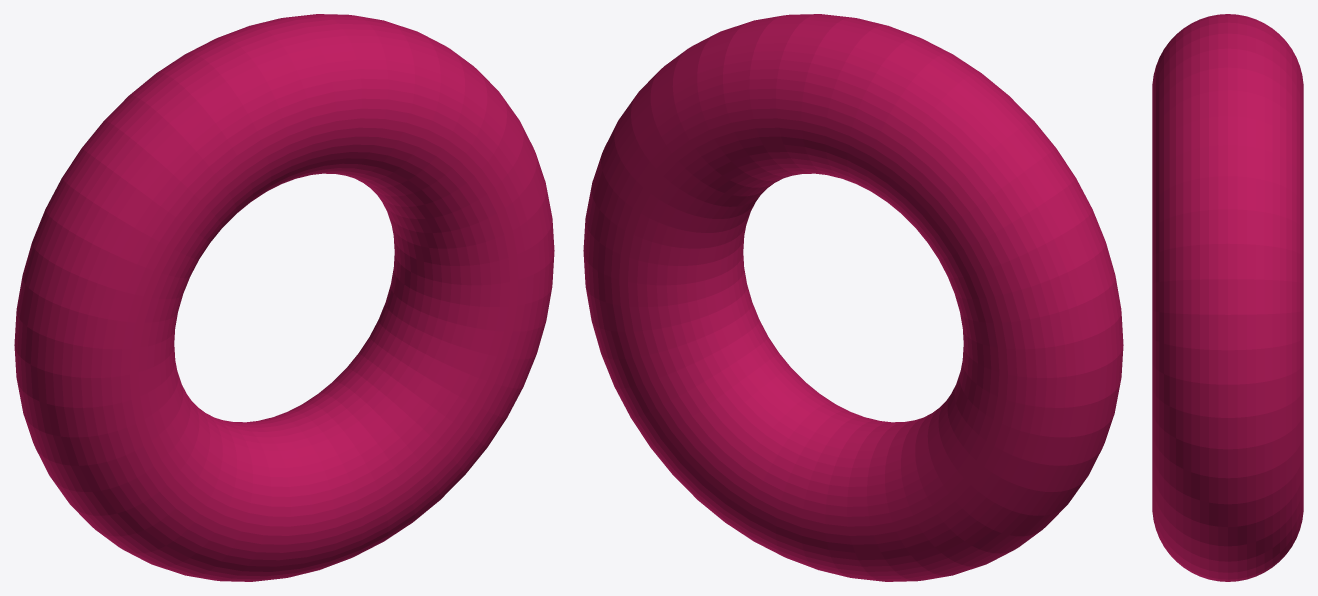
3 views of the same model, side by side, from view 1: azimuth 30°, elevation 25°; view 2: azimuth 150°, elevation 25°; view 3: azimuth 270°, elevation 25° (orthographic). The views are drawn at different scales.
Visible parts, largest first — view 1: world; view 2: world; view 3: world.
Boxes of the visible parts, bbox=[...] form: world: bbox=[14, 14, 554, 581]; world: bbox=[583, 14, 1123, 581]; world: bbox=[1152, 14, 1303, 581].
Size of the model in its own units: 35.47 by 35.4 by 9.45.
